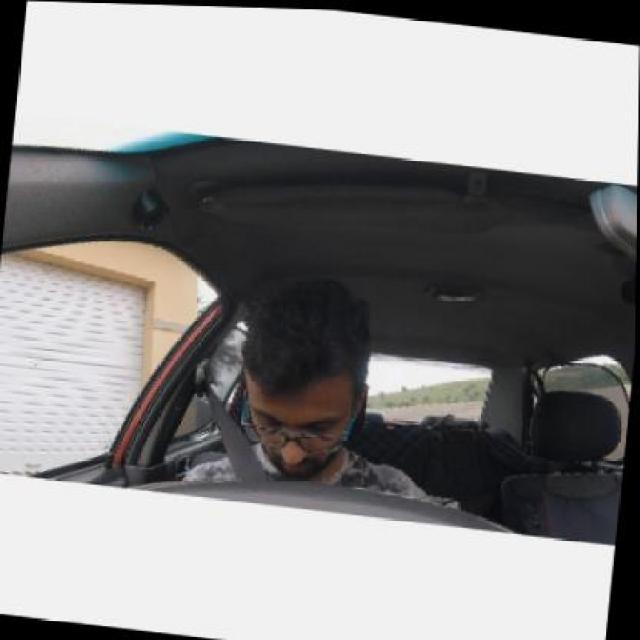drowsy: (231, 255, 385, 502)
